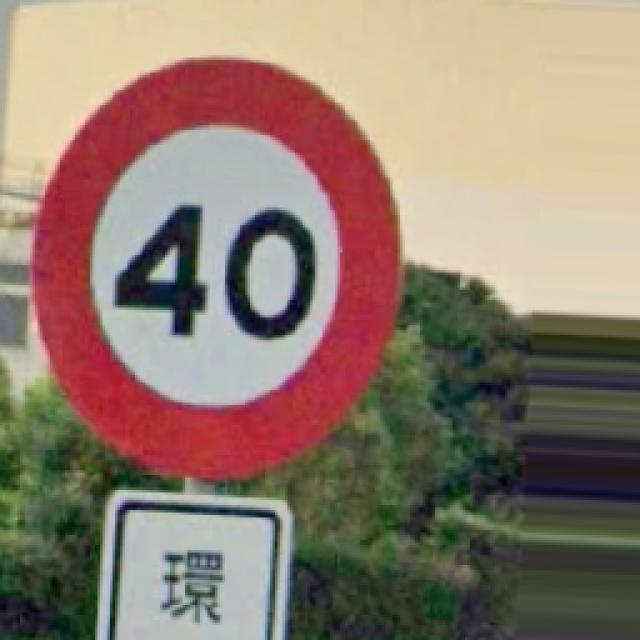Speed Limit -40-: (32, 60, 398, 475)
